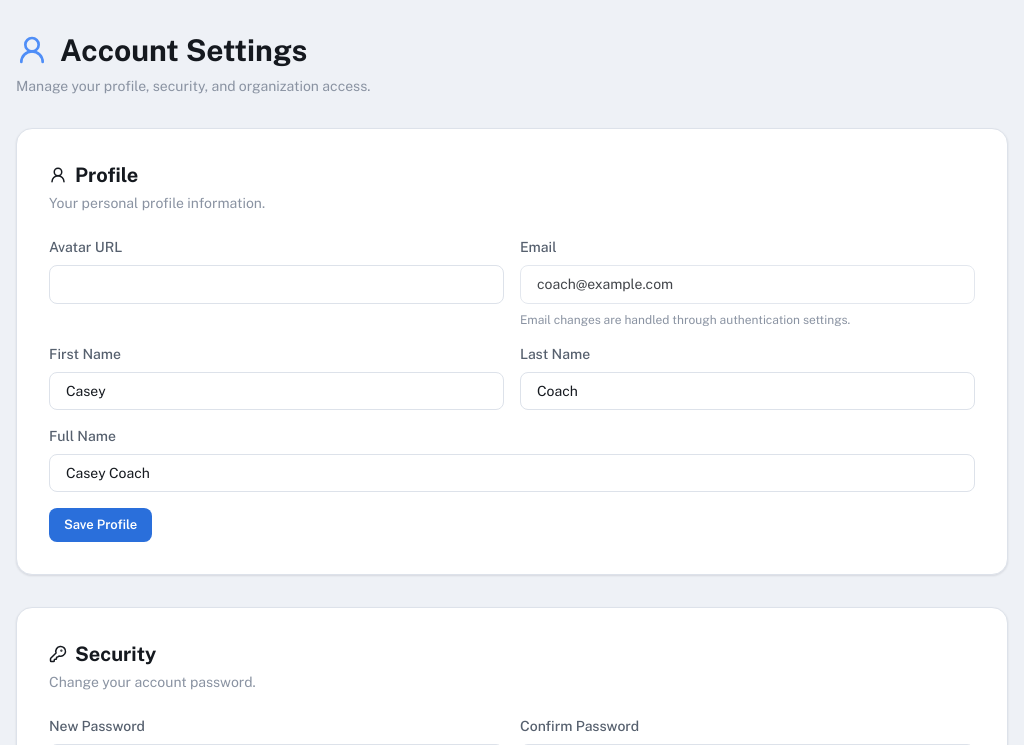
Scenario: AccountSettingsPage › saves profile updates only for the authenticated profile id
This screenshot has width=1024, height=745.
Step 1. Replace the text in the field labelled "First Name" with "Jordan" → (276, 391), box top-left (49, 372), bottom-right (504, 410)
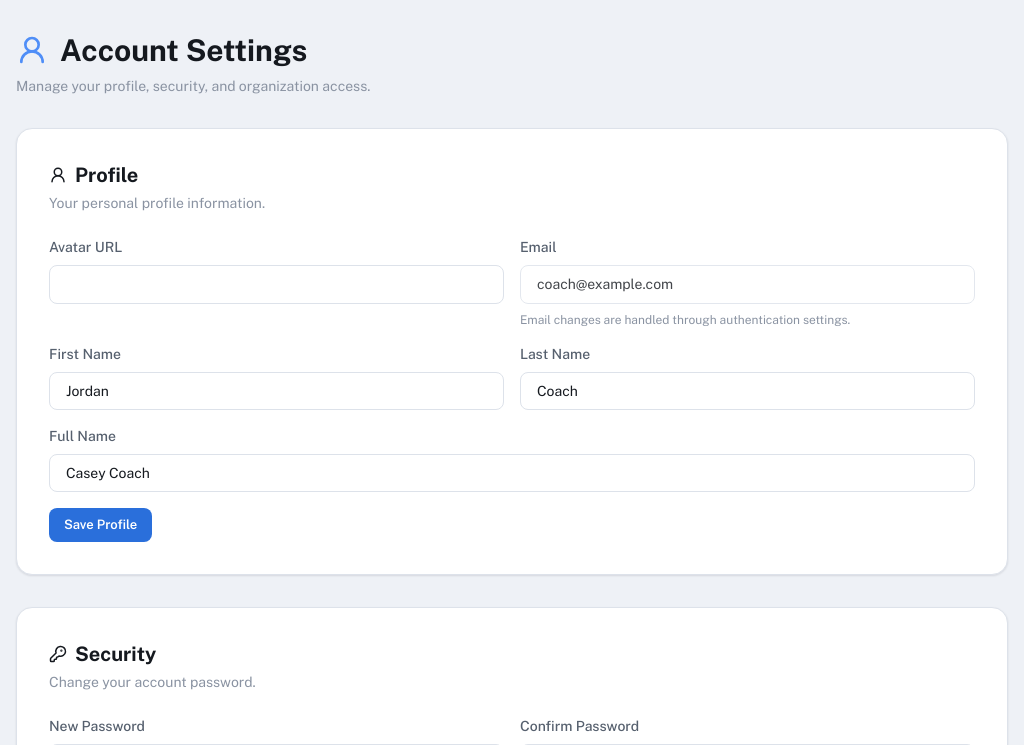
Step 2. Click the button "Save Profile" → (101, 525), box top-left (49, 508), bottom-right (152, 542)
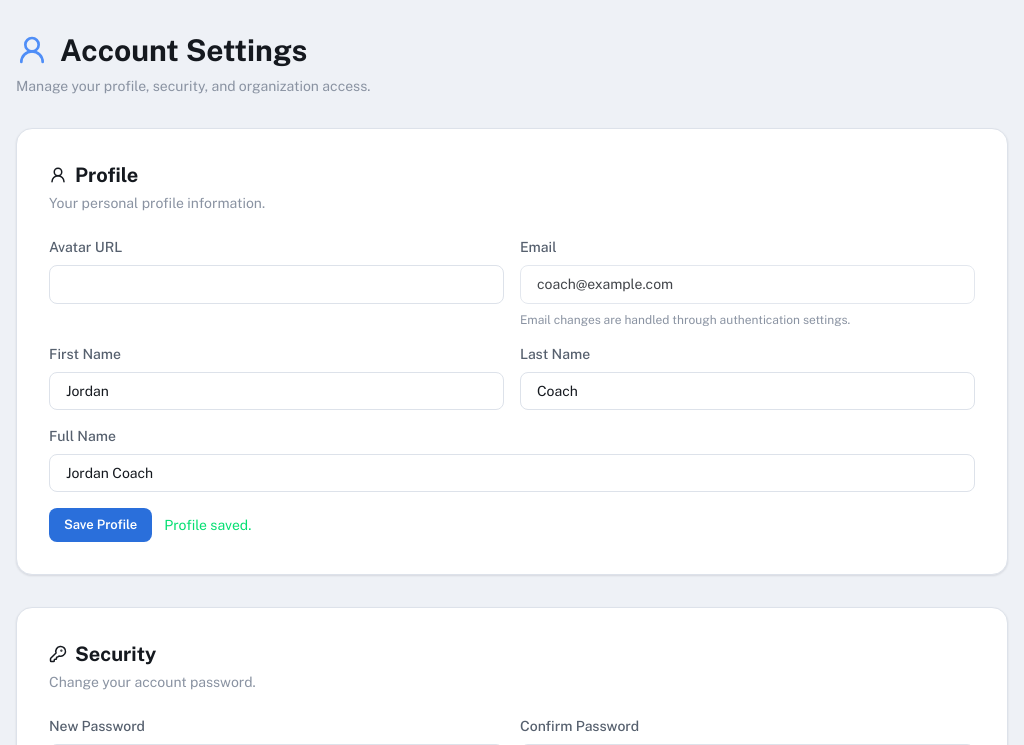
Now the message reads "Profile saved.", box top-left (164, 517), bottom-right (251, 533)
